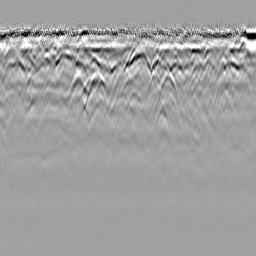cavity: (121, 72, 138, 96)
